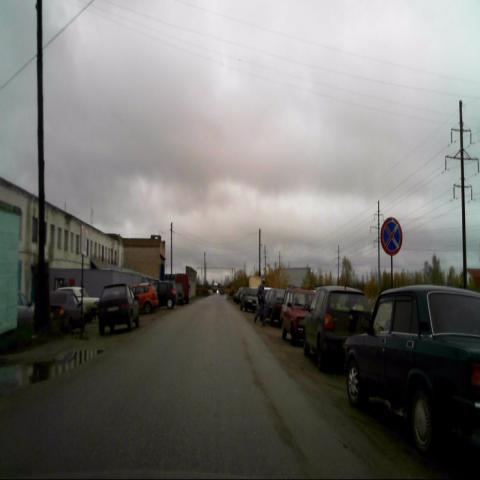3_27: (380, 216, 403, 256)
